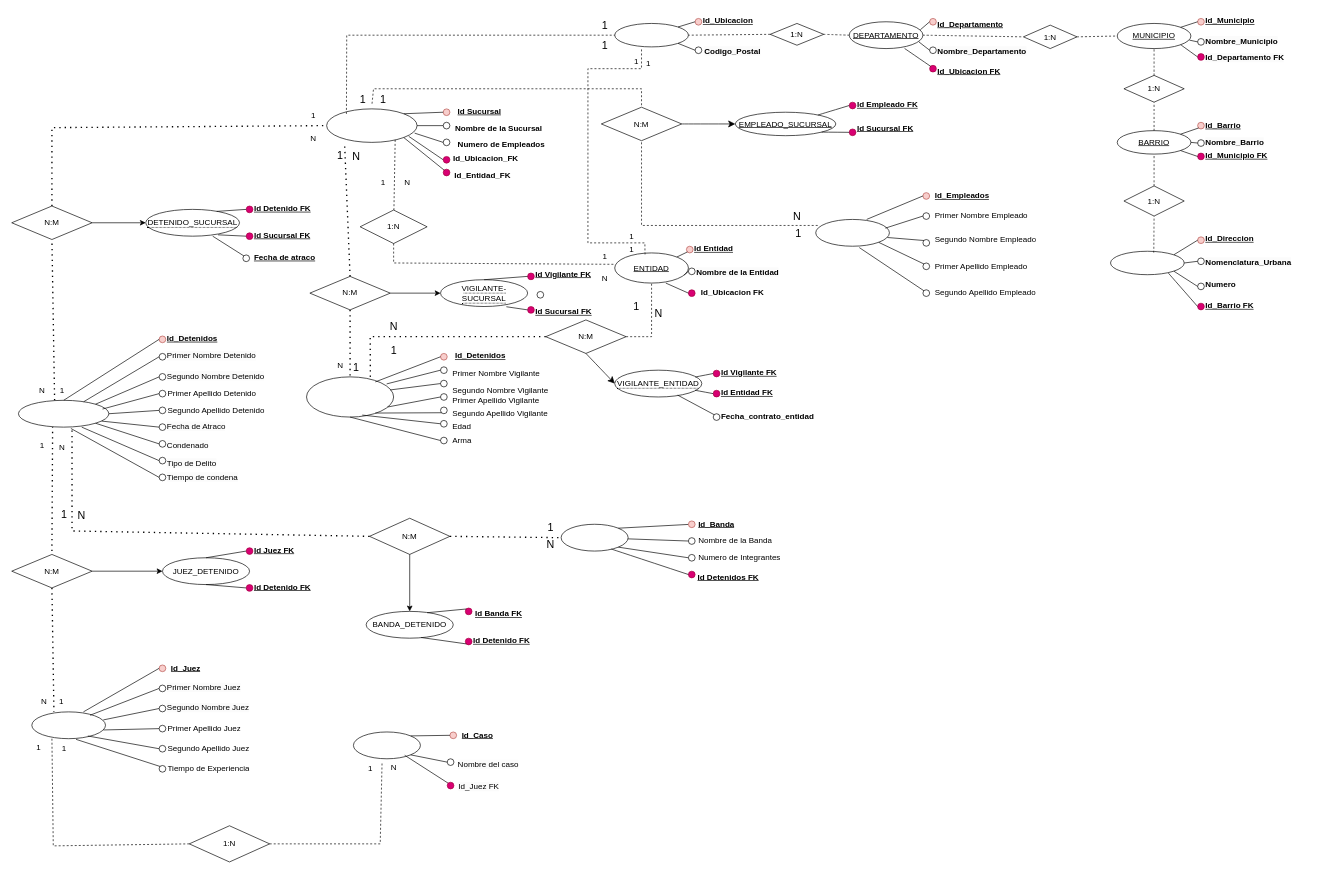
This 1330x874 diagram has some shape labels left out. Each missing label, with the centre of its shape:
"BANDA" belongs at pixel 594 537.
"CASO" belongs at pixel 386 745.
"DETENIDO" belongs at pixel 63 413.
"DIRECCION" belongs at pixel 1147 263.
"EMPLEADOS" belongs at pixel 852 232.
"JUEZ" belongs at pixel 68 725.
"SUCURSAL" belongs at pixel 371 125.
"UBICACION" belongs at pixel 651 35.
"VIGILANTE" belongs at pixel 350 396.
